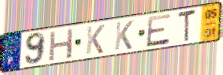9: (24, 30, 48, 66)
E: (145, 12, 173, 49)
H: (48, 27, 76, 63)
K: (84, 23, 106, 56), (113, 19, 135, 52)
T: (177, 8, 198, 44)
